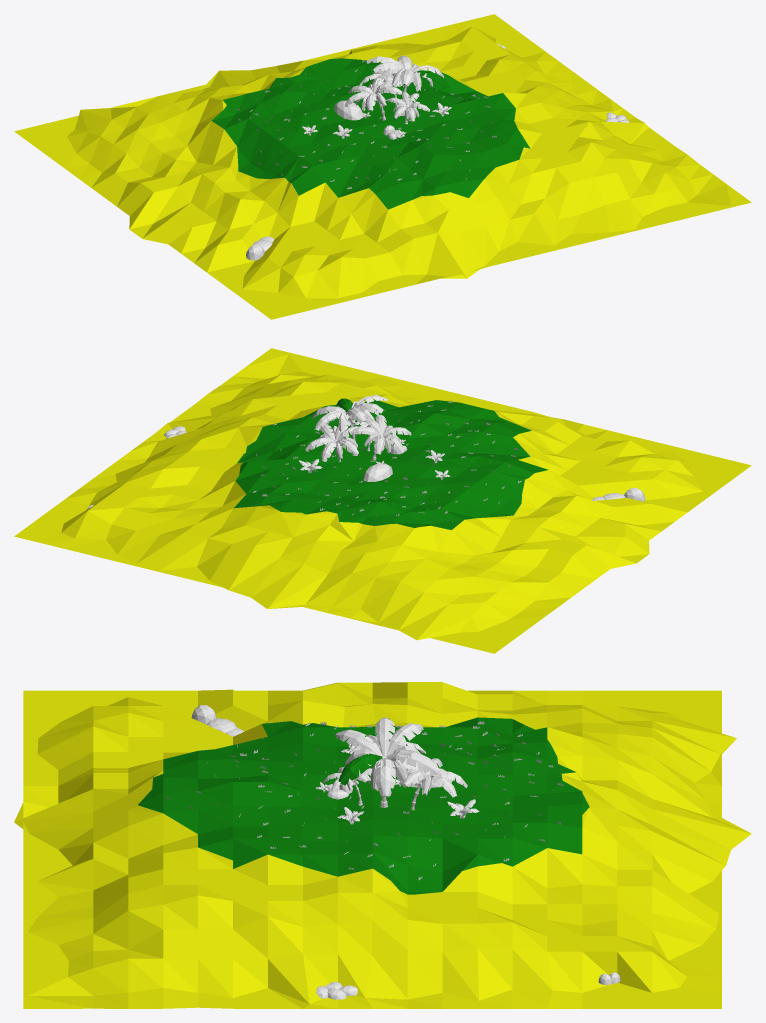
File: desert island.FBX
3 renders of one model, top to bottom at view 1: azimuth 30°, elevation 25°; view 2: azimuth 150°, elevation 25°; view 3: azimuth 270°, elevation 25°, orthographic. The views are drawn at different scales.
Visible parts, largest first — view 1: Plane025; view 2: Plane025; view 3: Plane025, Plane006, Plane001, Plane002, Plane005, Plane003.
Boxes of the visible parts, left/top/right/bottom form: Plane025: left=14, top=14, right=751, bottom=319; Plane025: left=14, top=348, right=751, bottom=653; Plane025: left=14, top=682, right=751, bottom=1008; Plane006: left=338, top=753, right=382, bottom=785; Plane001: left=375, top=757, right=395, bottom=796; Plane002: left=386, top=750, right=439, bottom=775; Plane005: left=335, top=729, right=382, bottom=756; Plane003: left=386, top=723, right=423, bottom=755.
Size of what is drawn, in the model's own units: 938 by 189 by 895.
